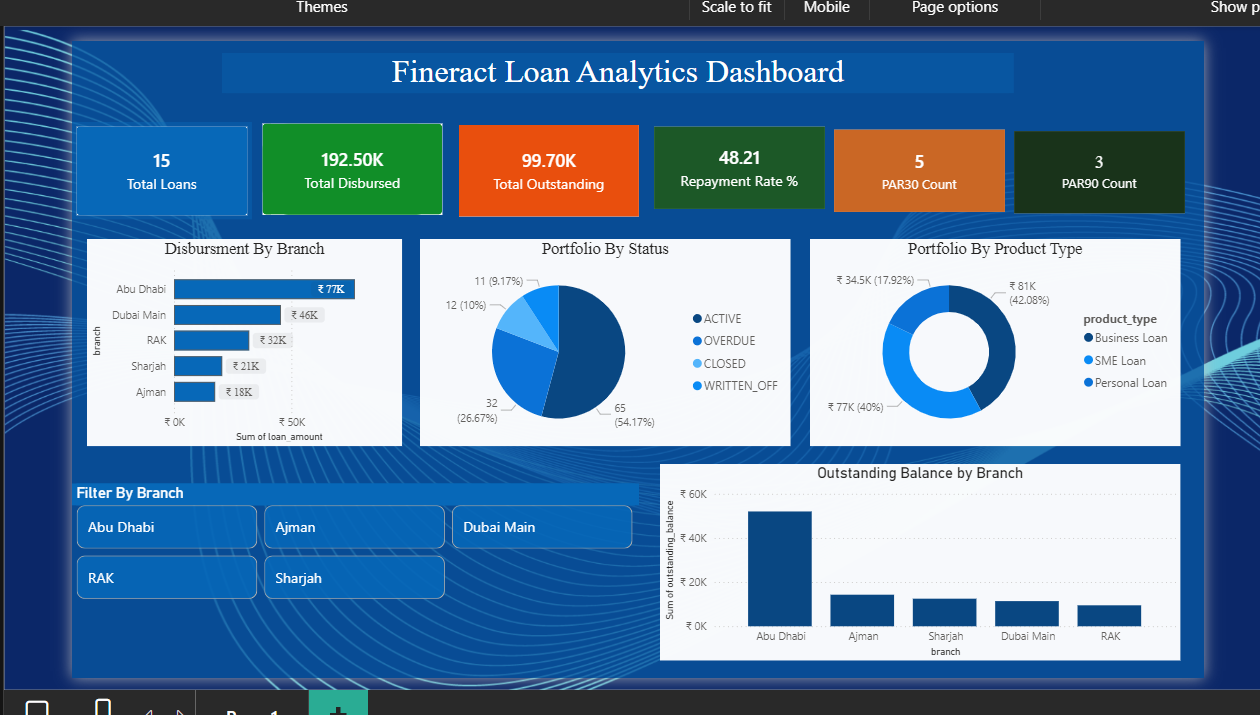

This screenshot's page, from the dashboard's own definition file:
{"tool":"powerbi","page":{"name":"Page 1","canvas":[1280,720],"ordinal":0},"visuals":[{"type":"cardVisual","fields":{"Data":["loans.Total Disbursed"]},"box":[215.3,93.2,203.4,103.4],"z":1},{"type":"cardVisual","fields":{"Data":["loans.PAR30 Count"]},"box":[855.9,94.9,203.4,103.4],"z":2},{"type":"cardVisual","fields":{"Data":["loans.Total Outstanding"]},"box":[437.3,94.9,203.4,103.4],"z":4},{"type":"cardVisual","fields":{"Data":["loans.Repayment Rate %"]},"box":[652.5,91.5,203,103],"z":5},{"type":"cardVisual","fields":{"Data":["loans.PAR90 Count"]},"box":[1059.3,96.6,203,103],"z":6},{"type":"clusteredBarChart","title":"Disbursment By Branch","fields":{"Category":["loans.branch"],"Y":["Sum(loans.loan_amount)"]},"box":[16.9,223.7,355.9,233.9],"z":7},{"type":"pieChart","title":"Portfolio By Status","fields":{"Category":["loans.status"],"Y":["Sum(loans.id)"]},"box":[393.2,223.7,418.6,233.9],"z":8},{"type":"donutChart","title":"Portfolio By Product Type","fields":{"Category":["loans.product_type"],"Y":["Sum(loans.loan_amount)"]},"box":[833.9,223.7,418.6,233.9],"z":9},{"type":"textbox","title":" Fineract Loan Analytics Dashboard","box":[169.2,13,894.6,48.8],"z":10},{"type":"advancedSlicerVisual","title":"Filter By Branch","fields":{"Values":["loans.branch"]},"box":[0,500,640.7,135.6],"z":11},{"type":"cardVisual","fields":{"Data":["loans.Total Loans"]},"box":[0,91.5,203.4,110.2],"z":12},{"type":"clusteredColumnChart","title":"Outstanding Balance by Branch","fields":{"Category":["loans.branch"],"Y":["Sum(loans.outstanding_balance)"]},"box":[664.4,478,588.1,222],"z":13}]}

Visuals, with their boxes on the page's 1280x720 design canvas (x1, y1, x2, y2). These are canvas units, not pixel positions in the 1260x715 screenshot, which may show the page scaled, cropped or inside an application window:
cardVisual - loans.Total Disbursed: x1=215 y1=93 x2=419 y2=197
cardVisual - loans.PAR30 Count: x1=856 y1=95 x2=1059 y2=198
cardVisual - loans.Total Outstanding: x1=437 y1=95 x2=641 y2=198
cardVisual - loans.Repayment Rate %: x1=652 y1=92 x2=856 y2=194
cardVisual - loans.PAR90 Count: x1=1059 y1=97 x2=1262 y2=200
"Disbursment By Branch" clusteredBarChart: x1=17 y1=224 x2=373 y2=458
"Portfolio By Status" pieChart: x1=393 y1=224 x2=812 y2=458
"Portfolio By Product Type" donutChart: x1=834 y1=224 x2=1252 y2=458
" Fineract Loan Analytics Dashboard" textbox: x1=169 y1=13 x2=1064 y2=62
"Filter By Branch" advancedSlicerVisual: x1=0 y1=500 x2=641 y2=636
cardVisual - loans.Total Loans: x1=0 y1=92 x2=203 y2=202
"Outstanding Balance by Branch" clusteredColumnChart: x1=664 y1=478 x2=1252 y2=700
